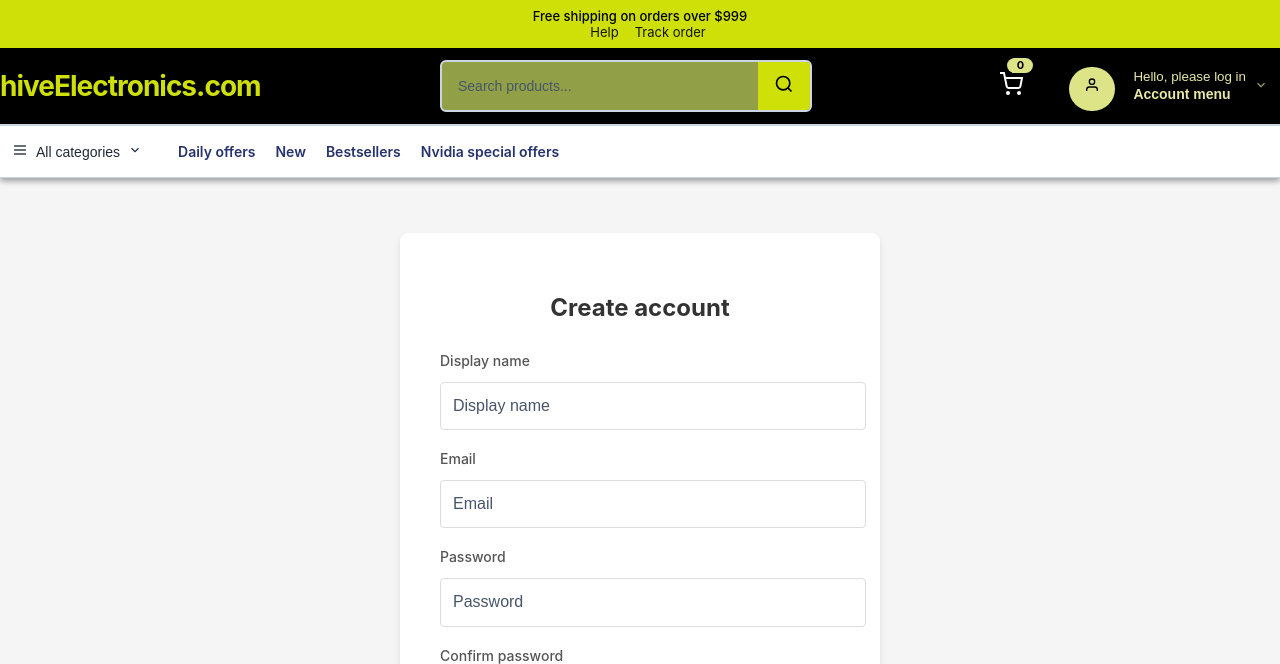
Signup flow › TC-E2E-AUTH-011 — submitting a too-short password shows a validation error
Type "Test User" into the field with test id "displayName-input" at (653, 406), box [440, 382, 866, 430]
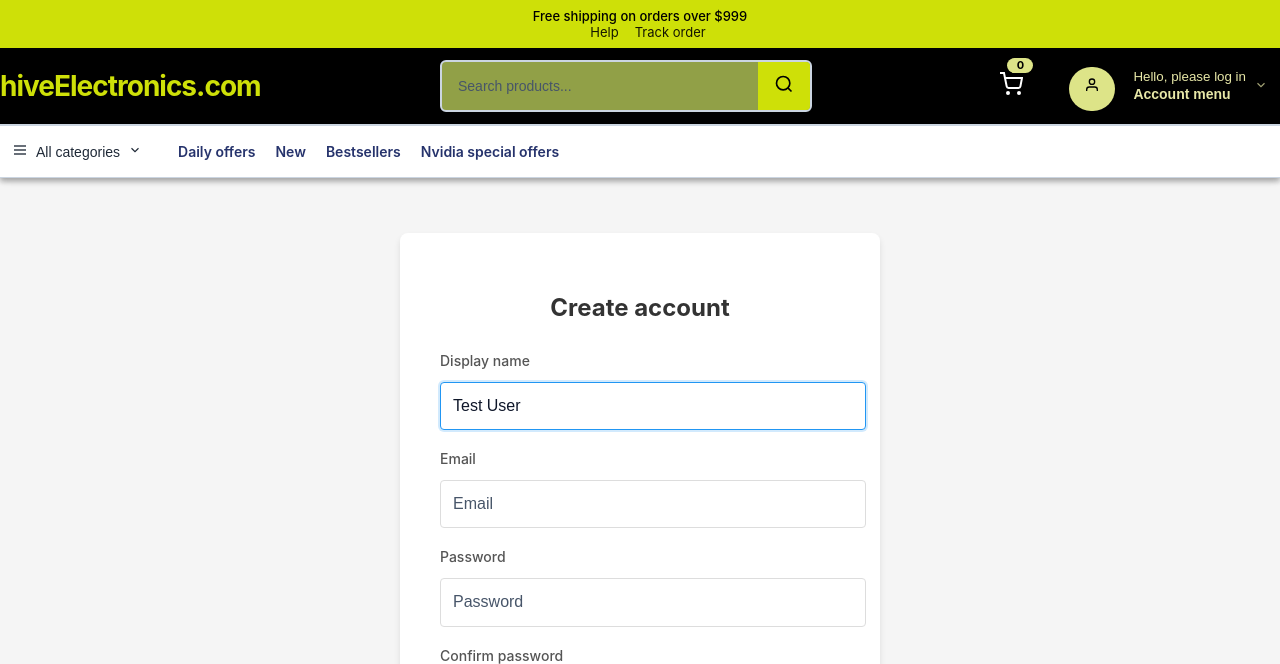
Type "short-password@example.com" into the field with test id "email-input" at (653, 504), box [440, 480, 866, 528]
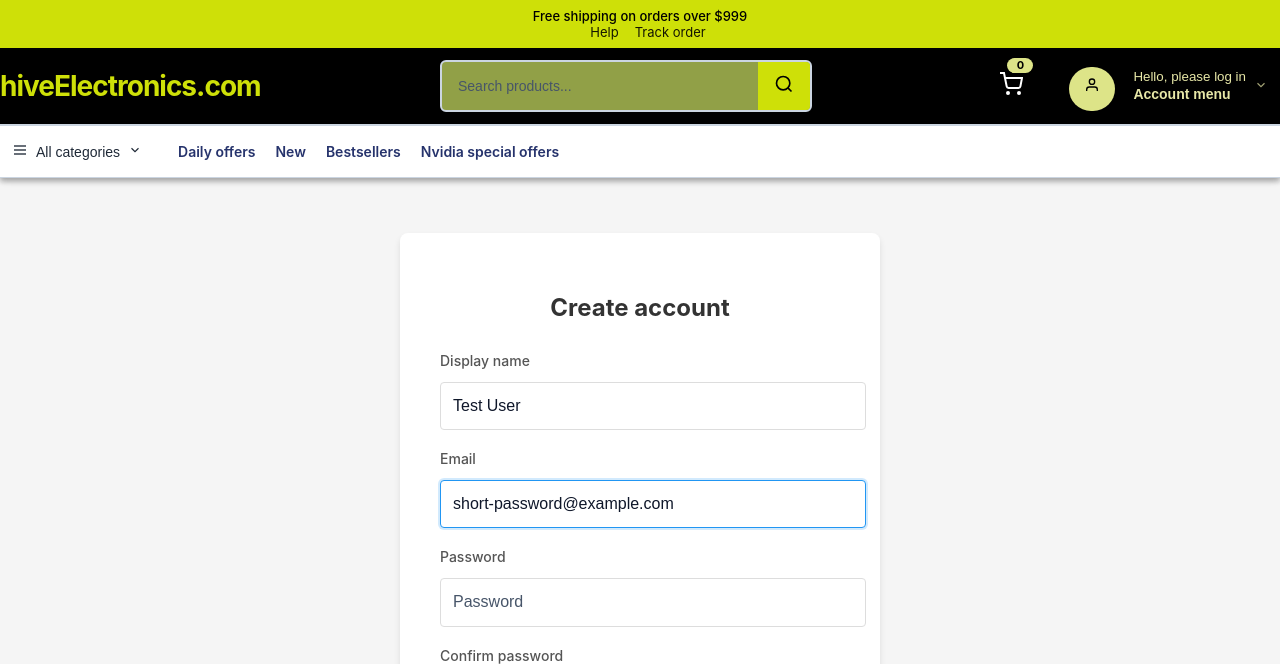
Type "abc" into the password field with test id "password-input" at (653, 603), box [440, 579, 866, 627]
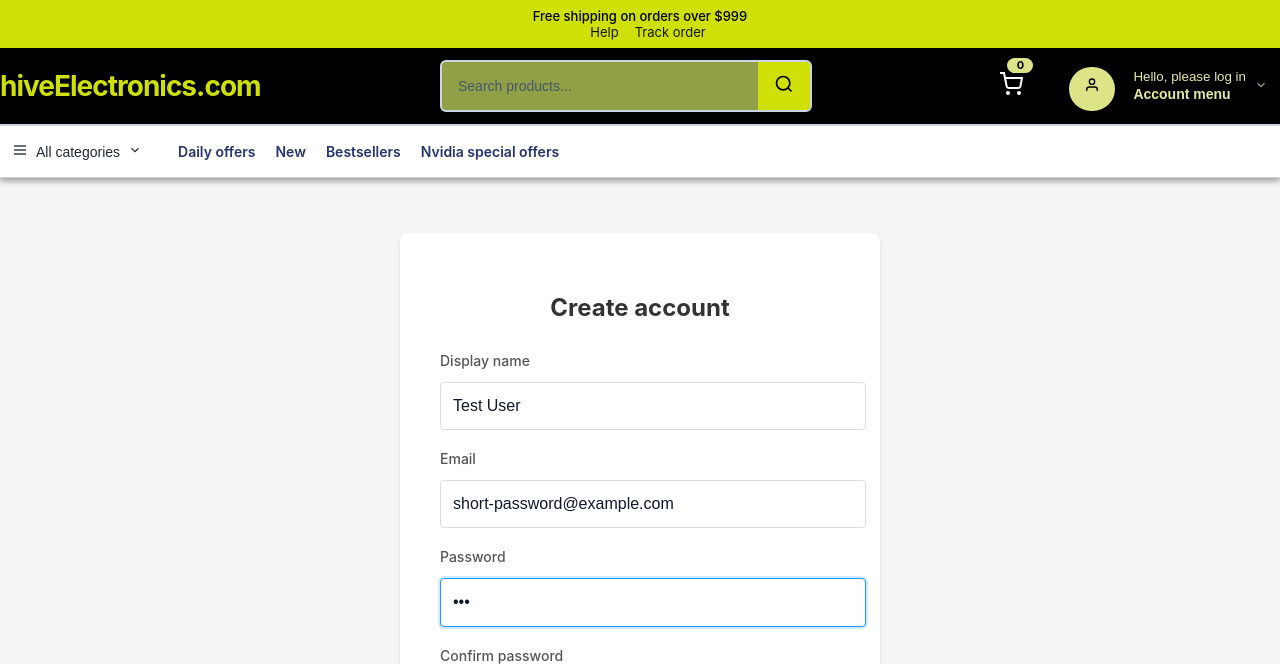
Scroll
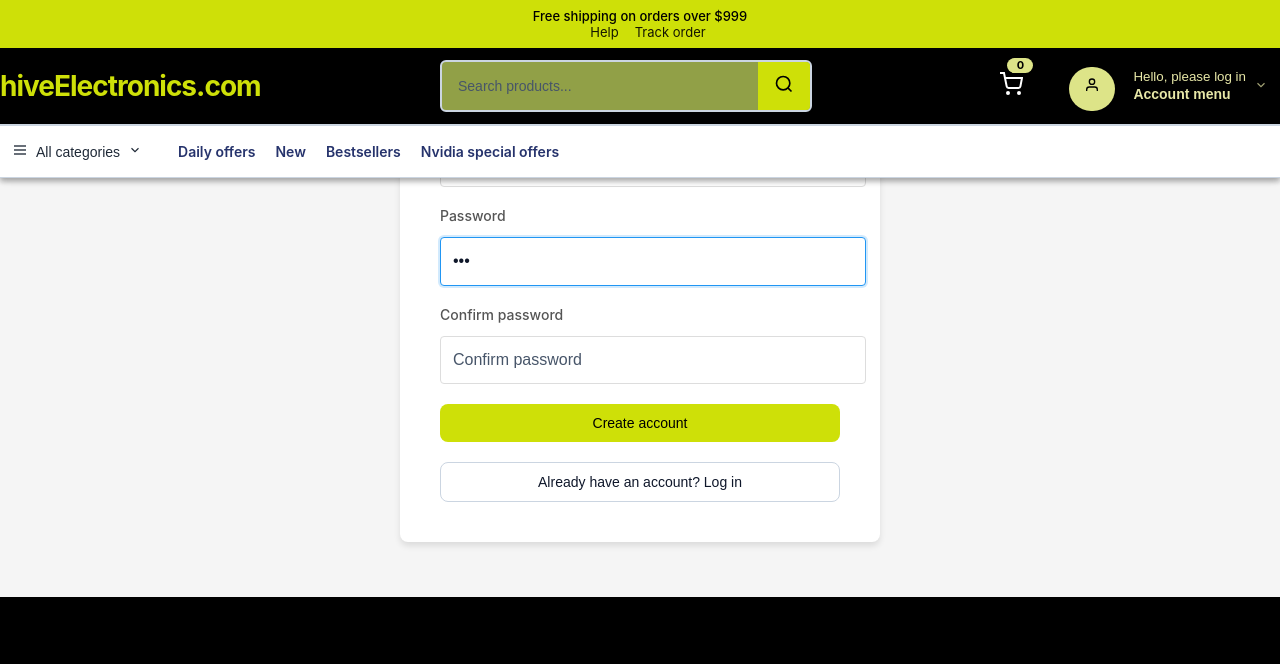
Type "abc" into the password field with test id "confirmPassword-input" at (653, 360), box [440, 336, 866, 384]
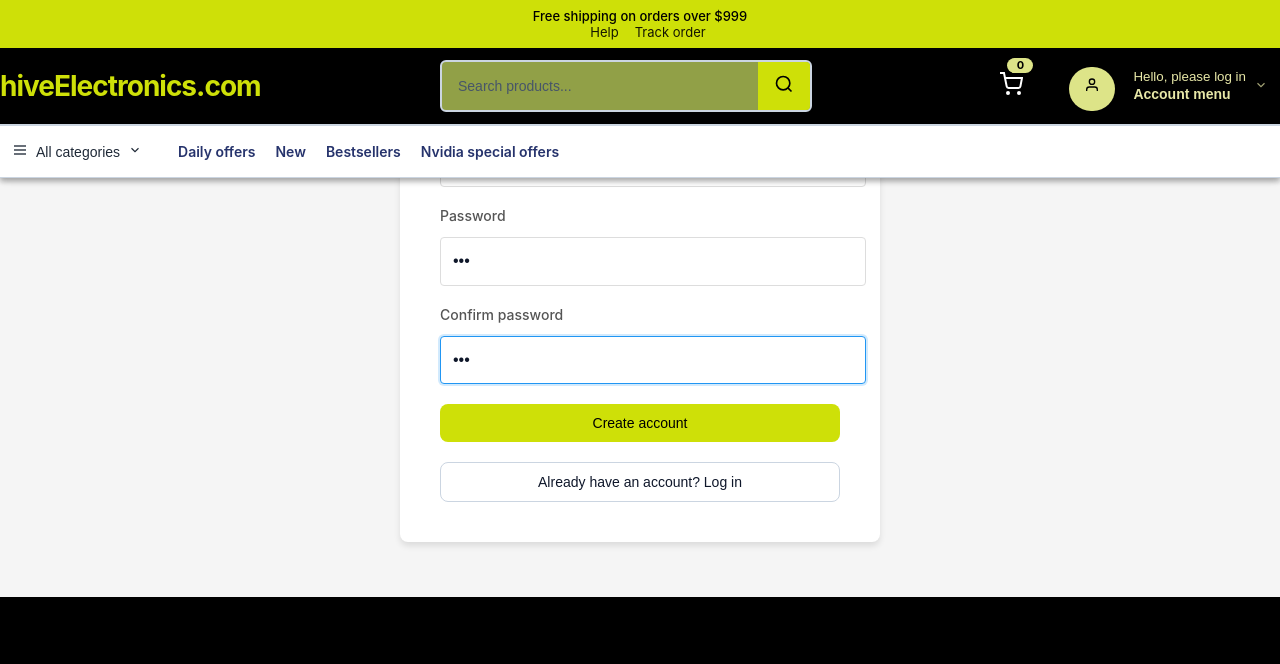
Click the button with test id "signup-submit" at (640, 423), box [440, 404, 840, 442]
(page scrolled)
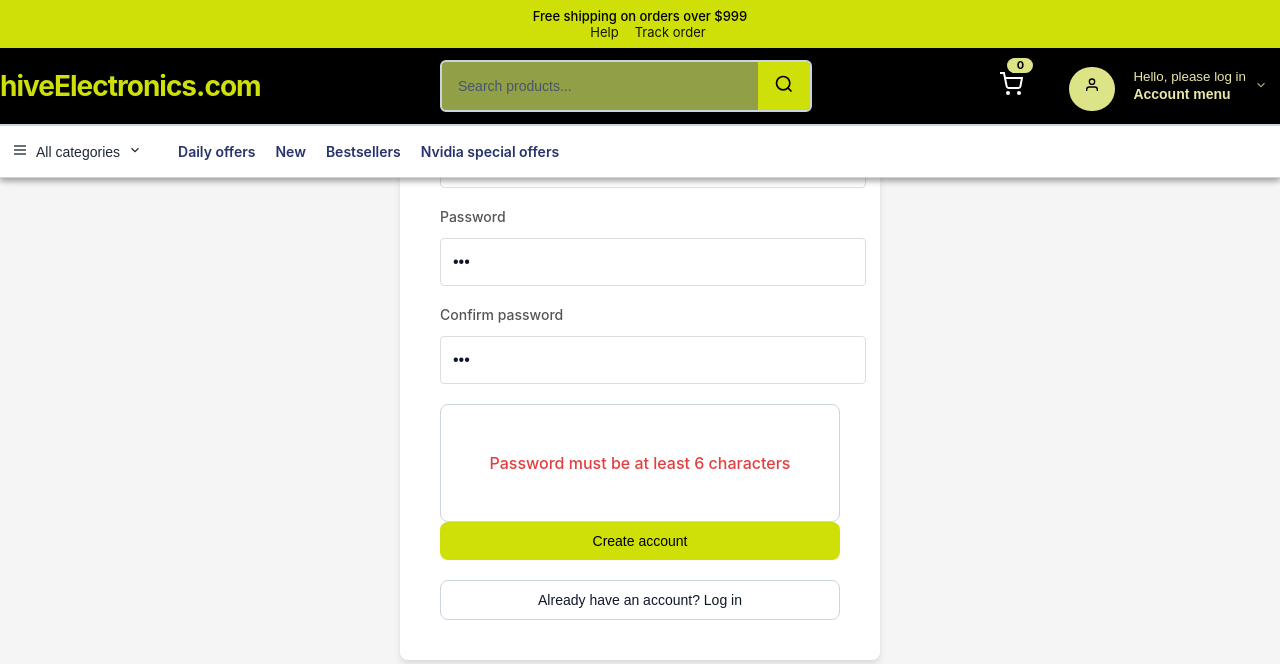
Expected: the message "Password must be at least 6 characters" is shown, [440, 404, 840, 522]
